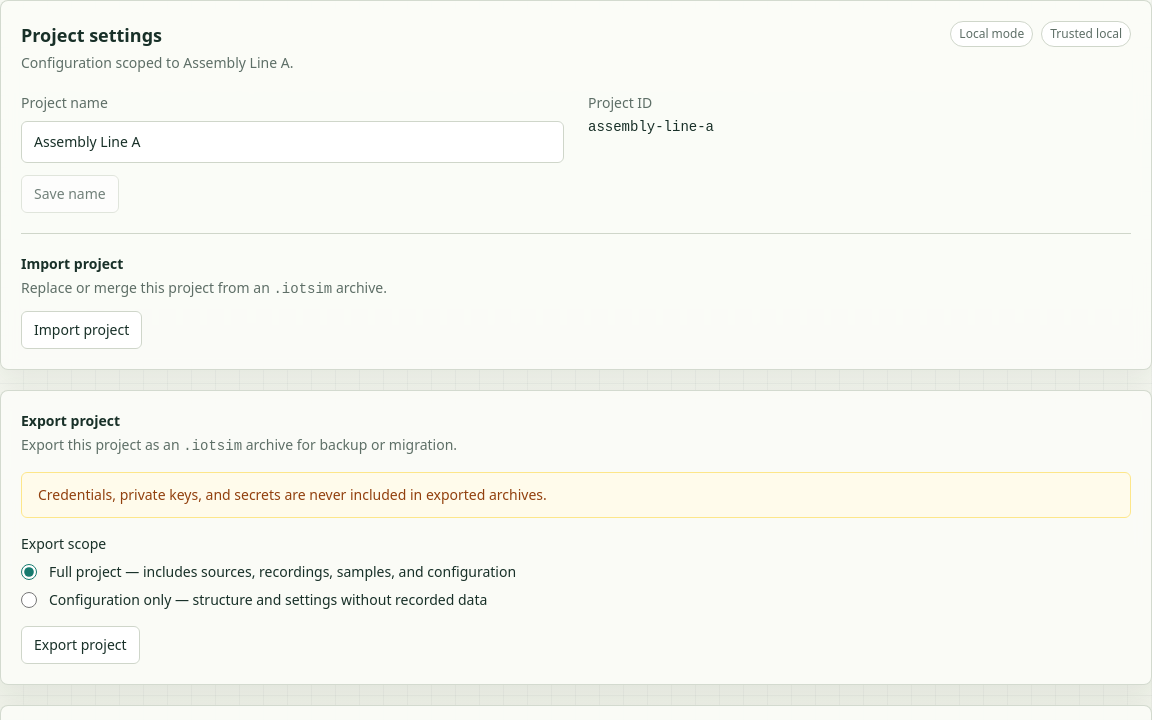
project name — Admin (local mode) › shows validation error on empty name submit without saving
The width and height of the screenshot is (1152, 720).
Clear the field at [292, 142], box [21,121,564,163]
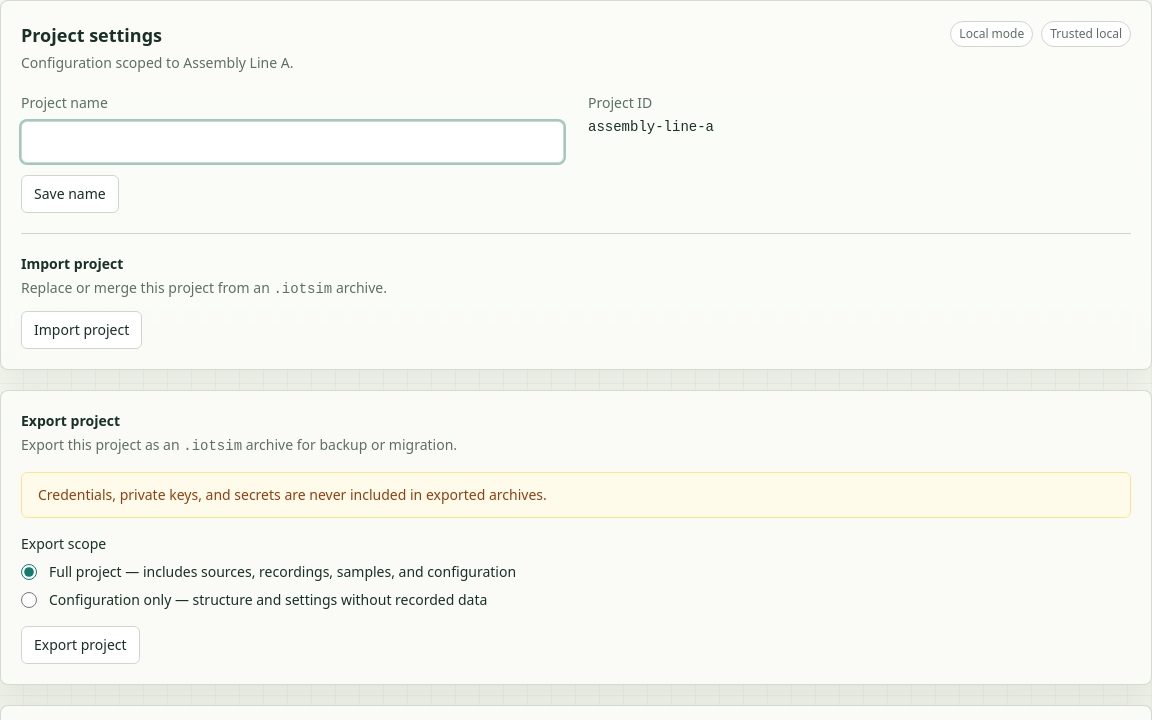
Click the button "Save name".
click(70, 194)  # box [21,175,119,213]
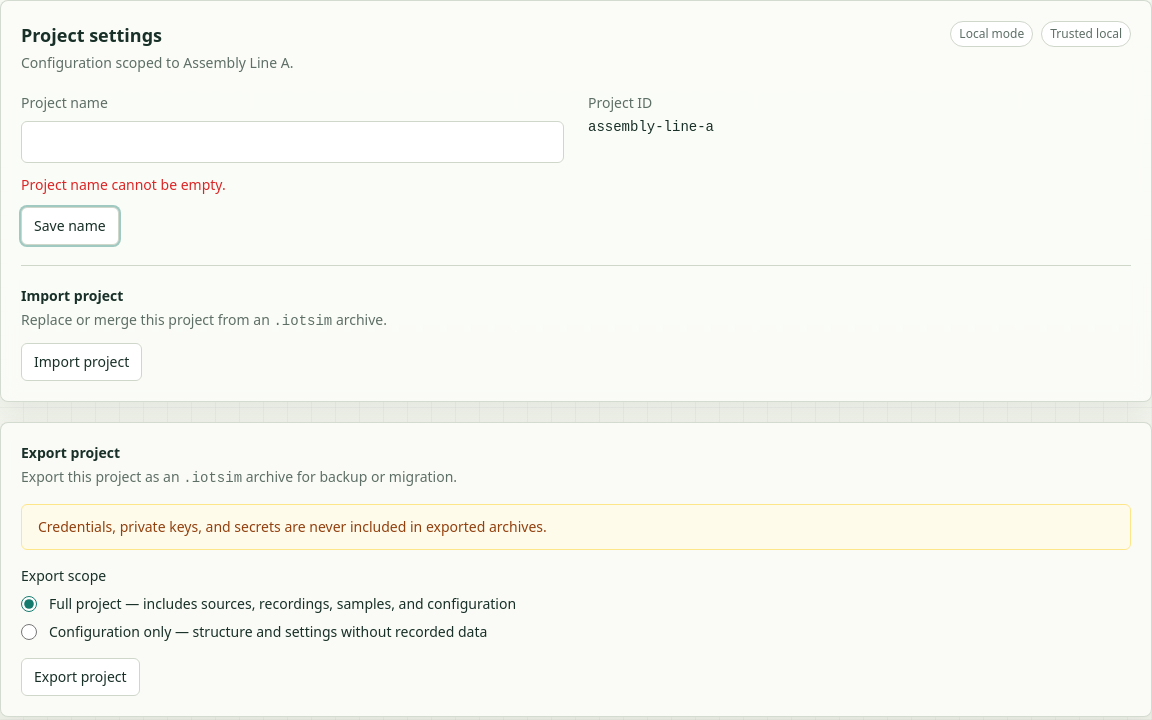
Expected: the message shows "cannot be empty", [21,175,226,194]
